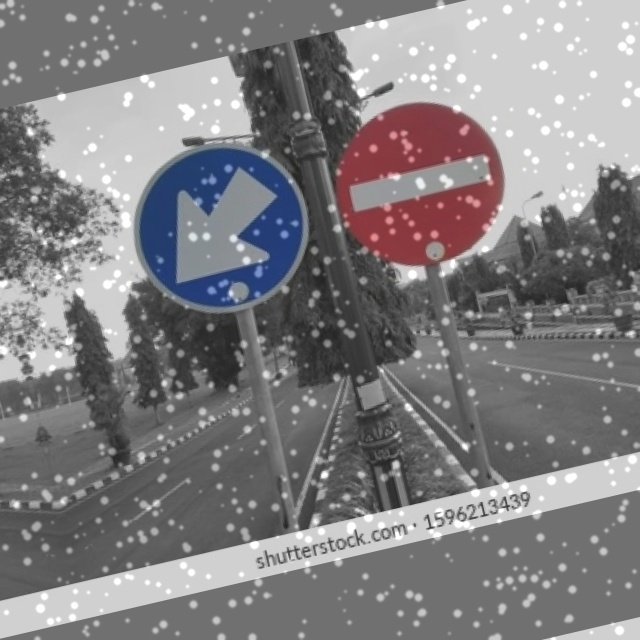Compulsory_Keep_Left: (121, 131, 318, 321)
